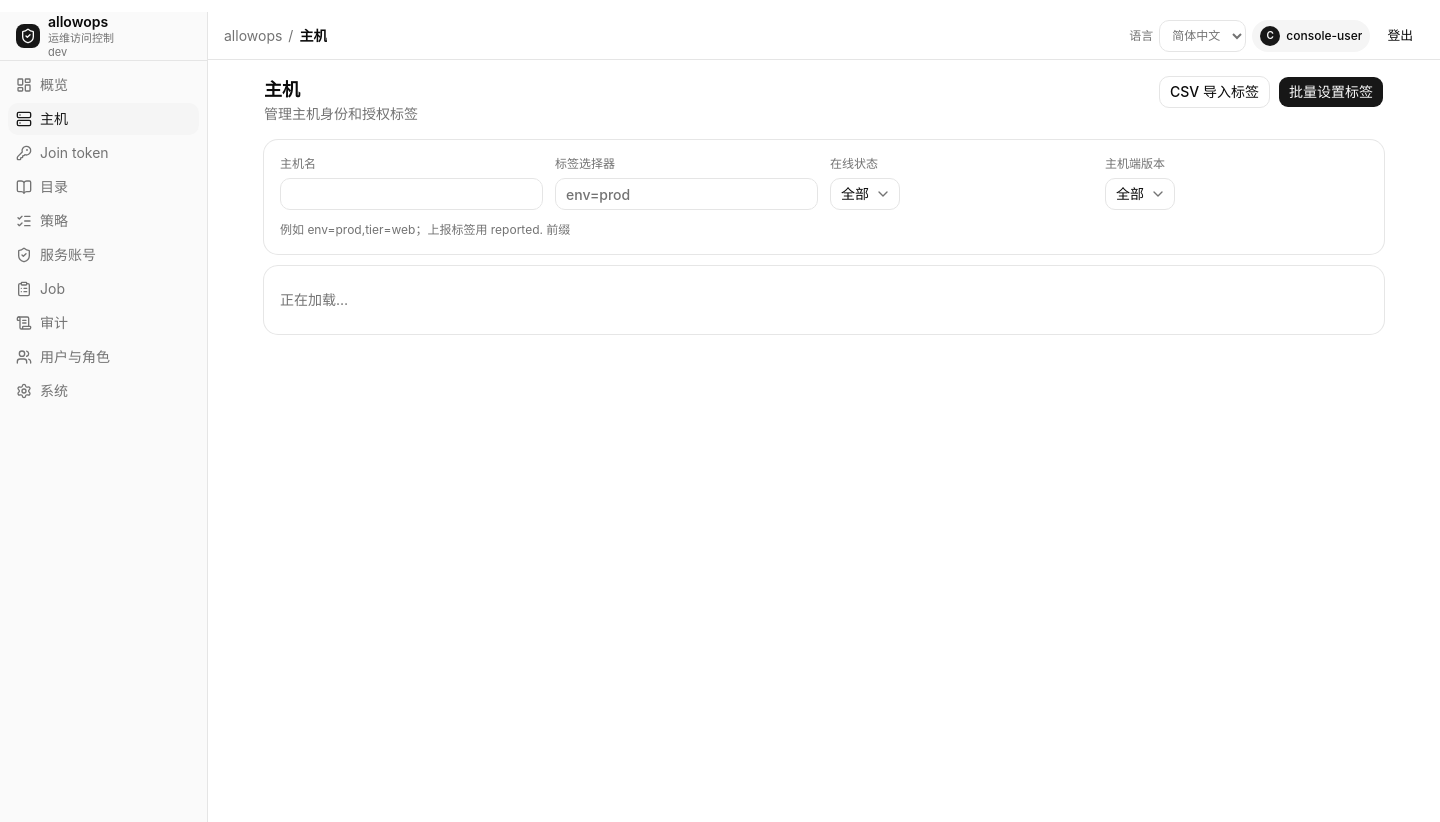
Test case: D02 bulk preview race › ignores a stale bulk response after the draft changes
This screenshot has width=1440, height=822.
Expected: the heading "主机" is shown, [264,79,300,100]
Click the button "批量设置标签" at point(1331, 92), box [1278,76,1384,108]
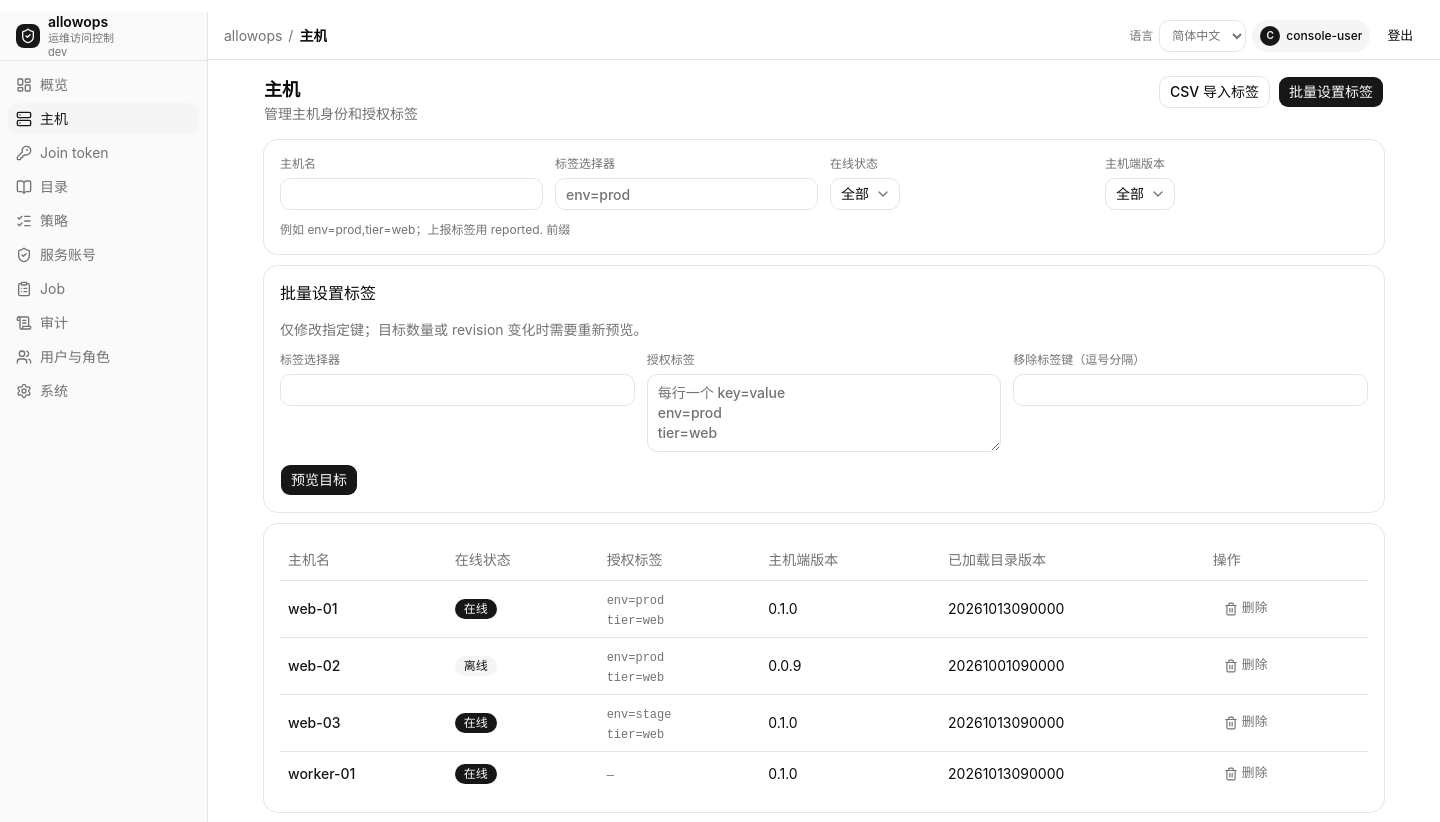
Now the heading "批量设置标签" is shown, box [280,283,376,303]
Type "team=old" into the field labelled "标签选择器" below "仅修改指定键；目标数量或 revision 变化时需要重新预览。" at point(457, 390), box [280,374,635,406]
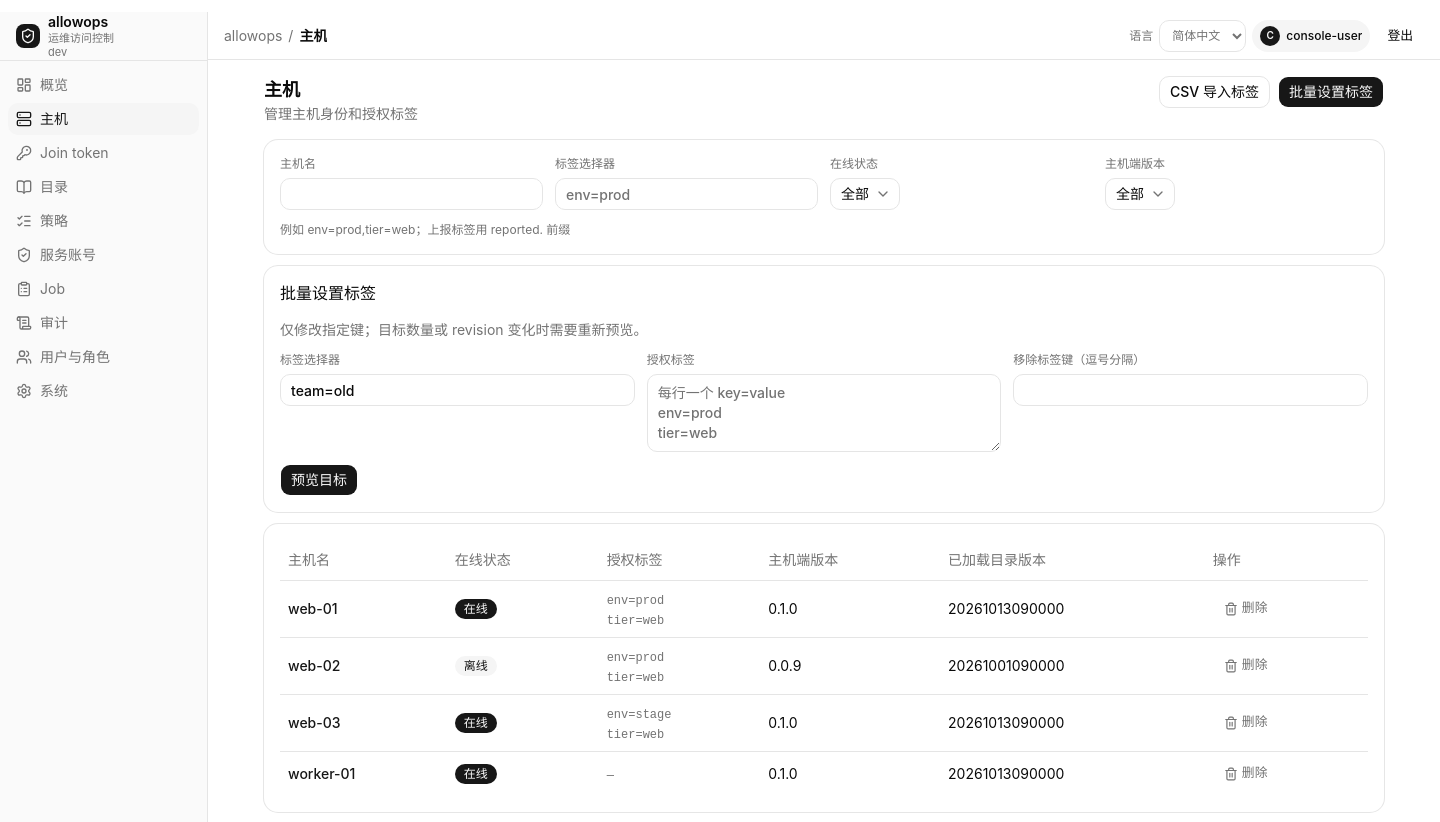
Type "team=old" into the text box labelled "授权标签" at point(824, 413), box [647,374,1001,452]
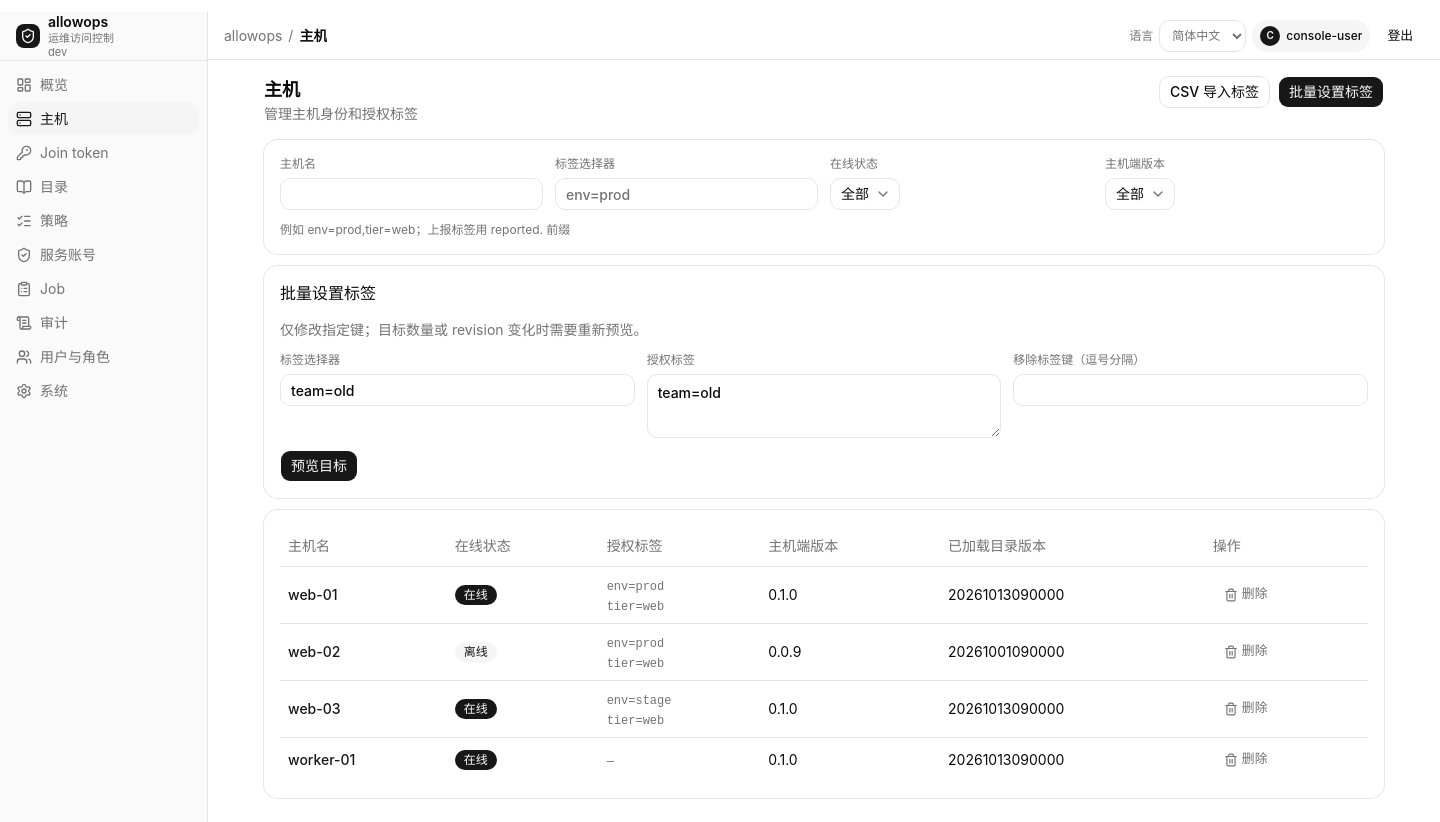
Click the button "预览目标" at point(319, 466), box [280,450,358,482]
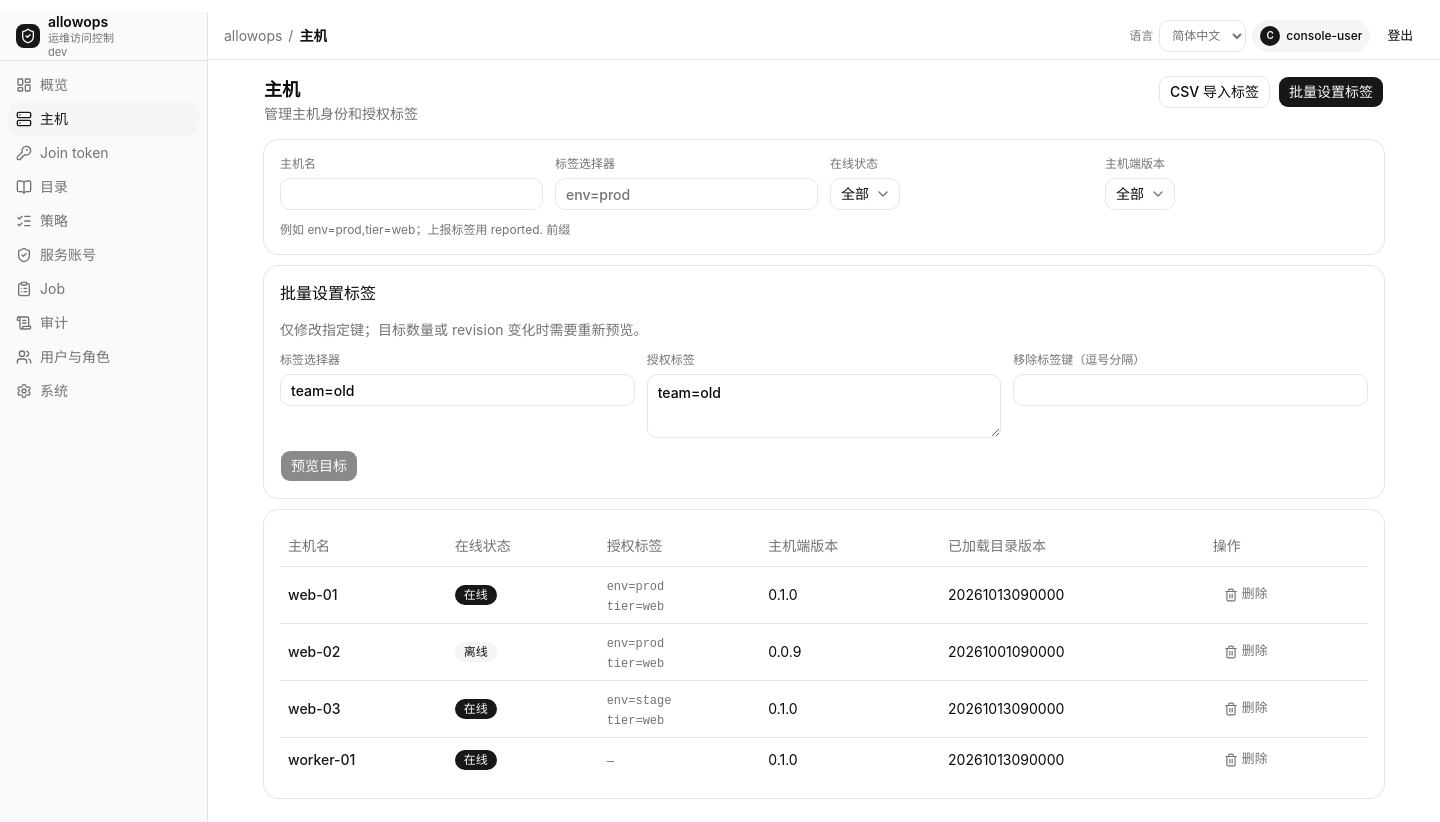
Replace the text in the field labelled "标签选择器" below "仅修改指定键；目标数量或 revision 变化时需要重新预览。" with "team=new" at point(457, 390), box [280,374,635,406]
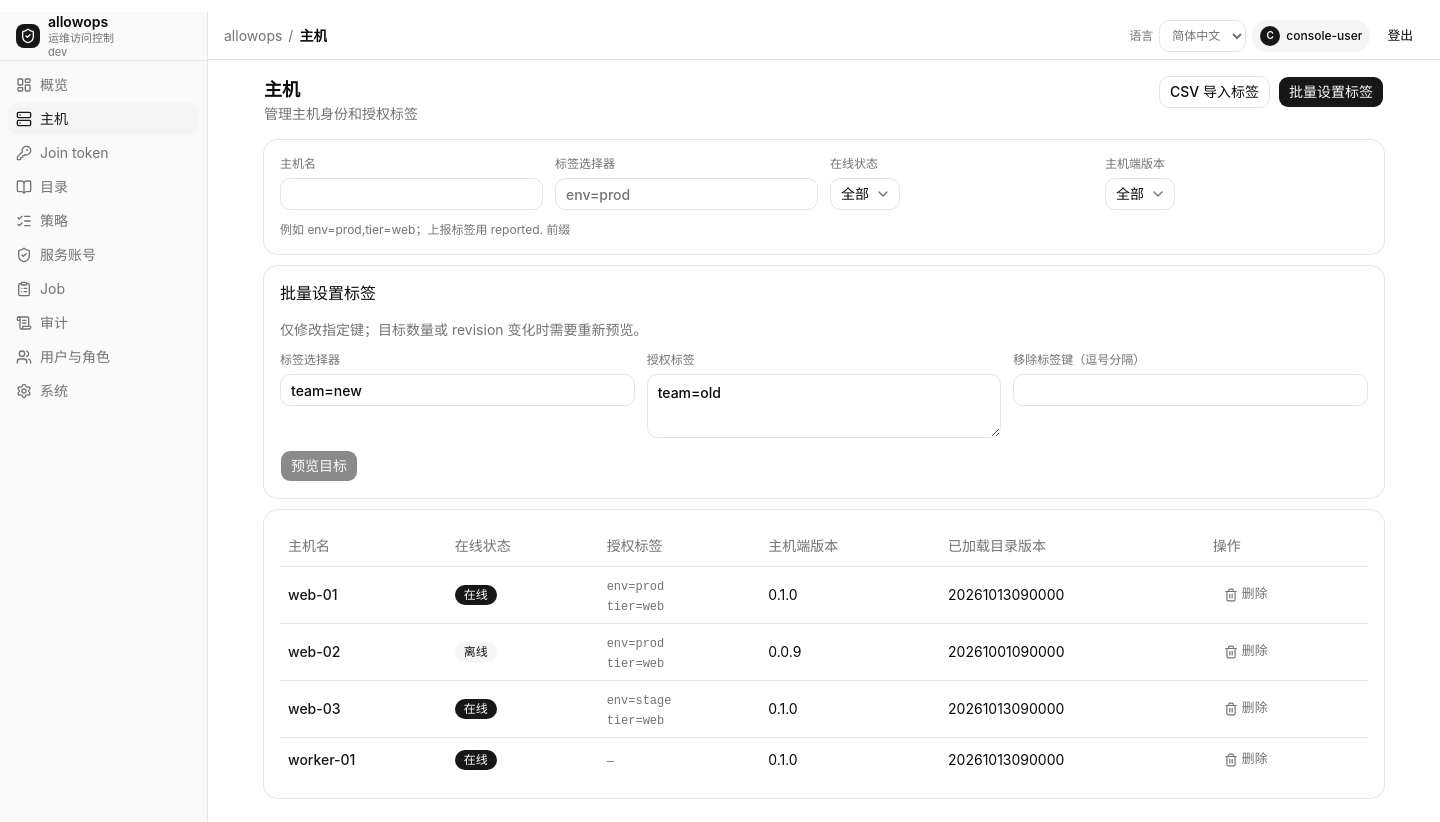
Replace the text in the text box labelled "授权标签" with "team=new" at point(824, 406), box [647,374,1001,438]
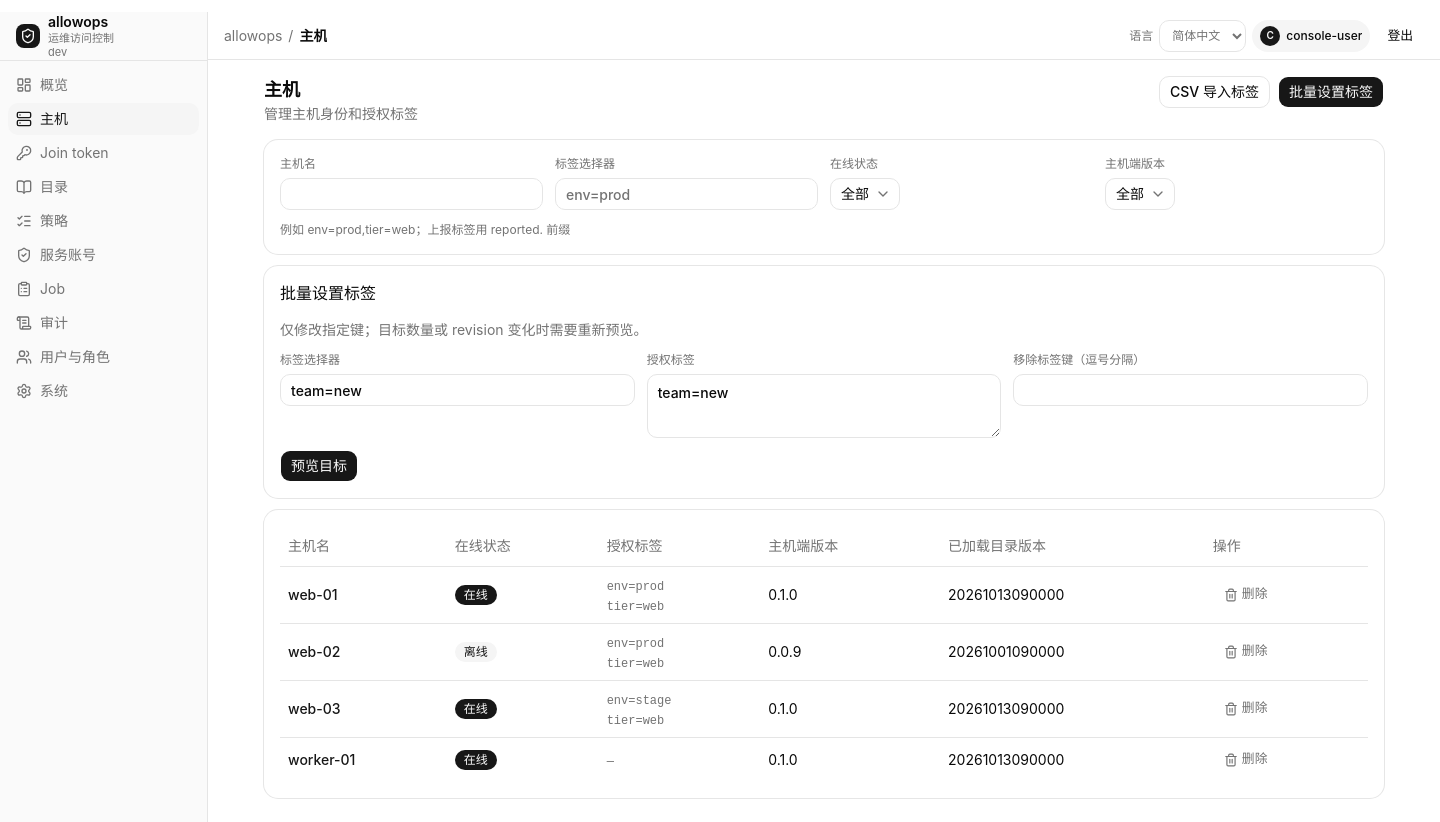
Now the button "预览目标" is enabled, box [280,450,358,482]
